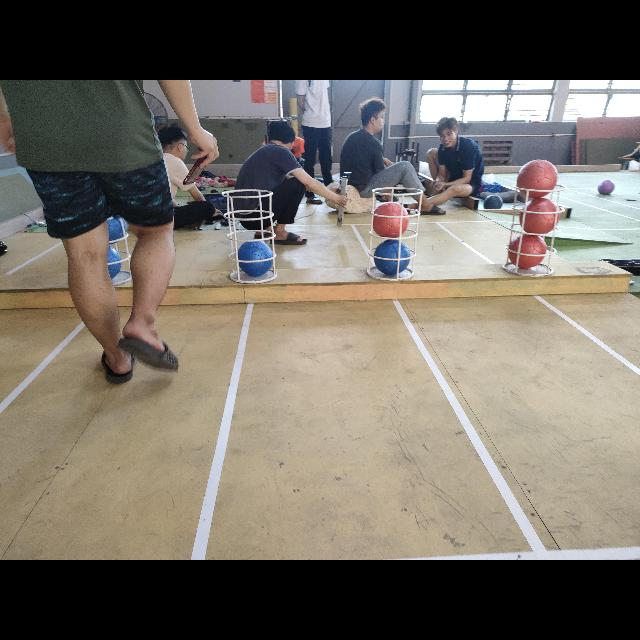B: (372, 238, 412, 276), (236, 240, 276, 276)
R: (516, 159, 558, 197), (520, 200, 560, 236), (372, 201, 410, 237), (506, 236, 546, 270)
